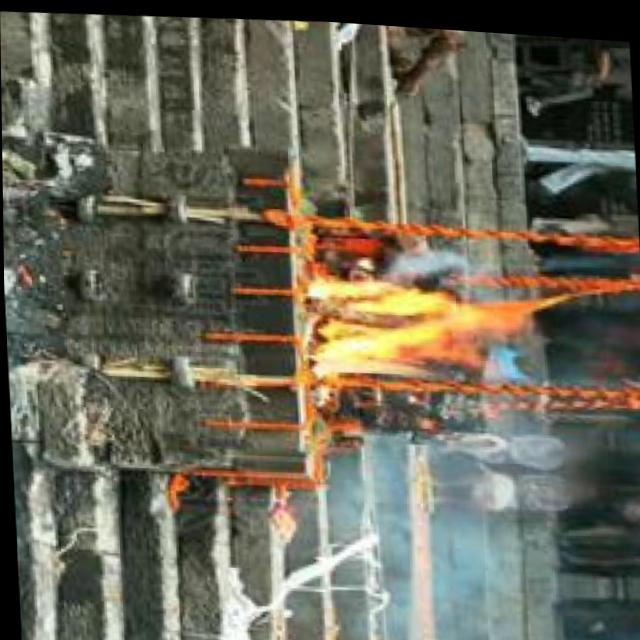Fire: (295, 259, 543, 390)
